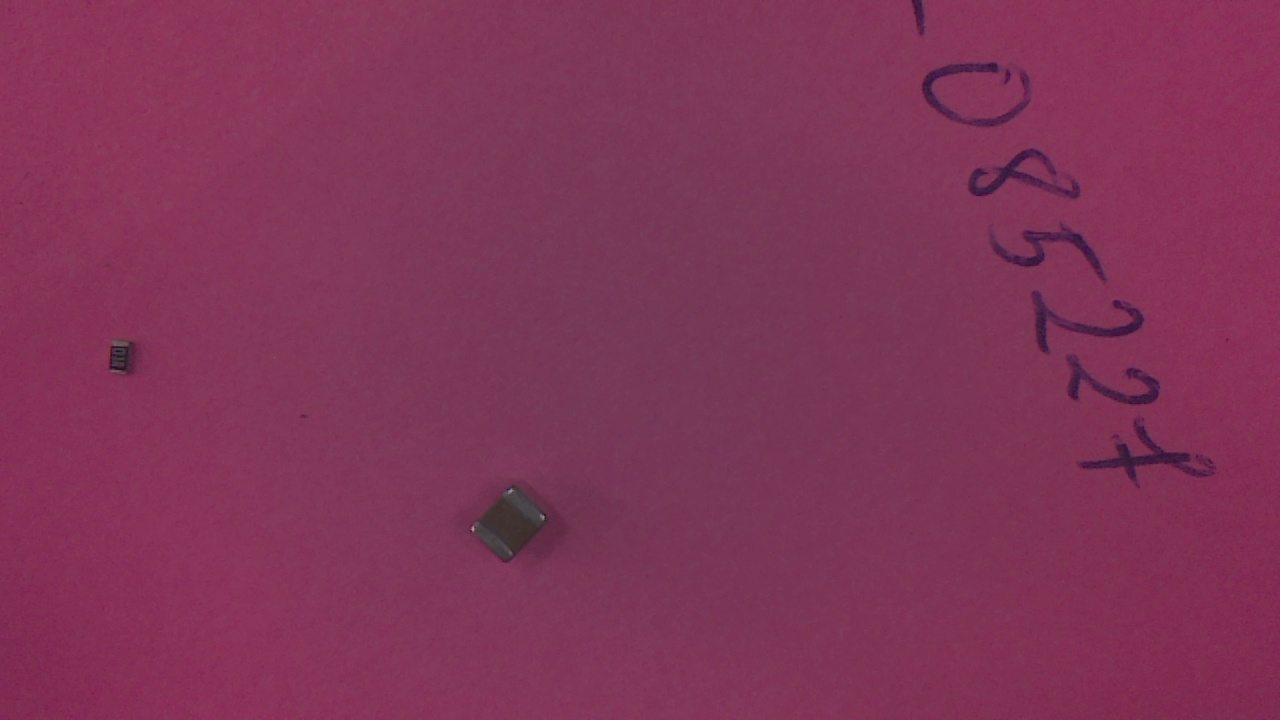Condensator: (474, 485, 557, 568)
Resistor: (109, 342, 139, 381)
